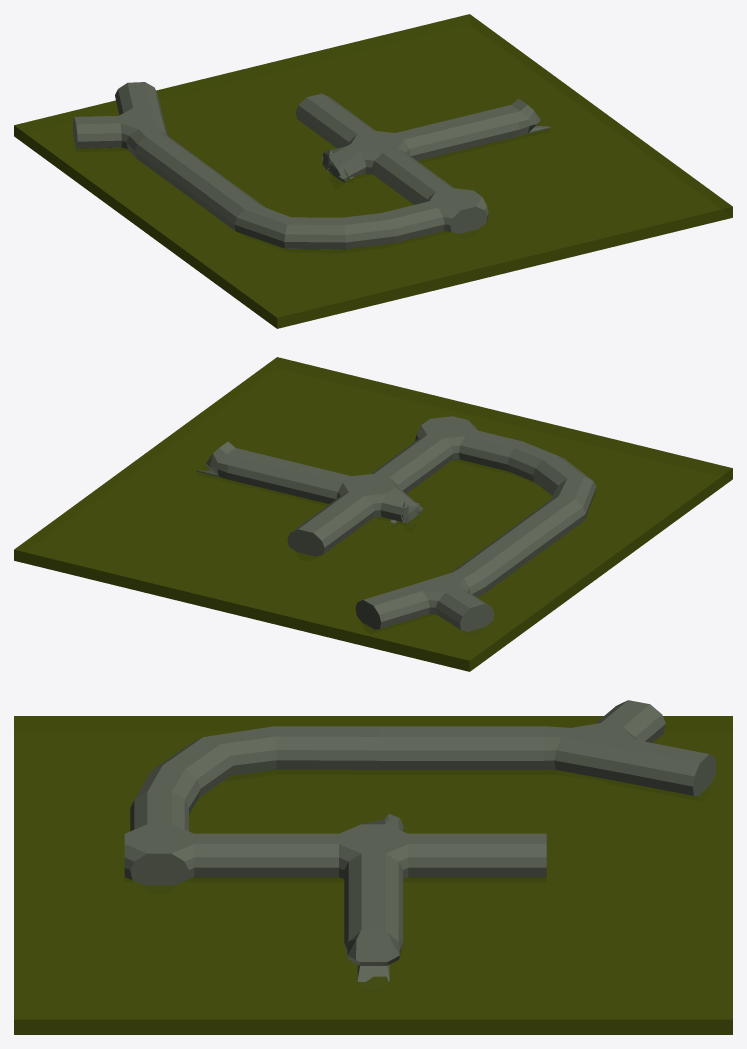
File: OverRat SewersMap.fbx
The picture shows the model from 3 angles, top to bottom: view 1: azimuth 30°, elevation 25°; view 2: azimuth 150°, elevation 25°; view 3: azimuth 270°, elevation 25°; orthographic projection. The views are drawn at different scales.
Visible parts, largest first — view 1: Cube.001, Cube; view 2: Cube.001, Cube; view 3: Cube.001, Cube.
Boxes of the visible parts, <box> form: Cube.001: <box>14,14,732,328</box>; Cube: <box>73,82,550,249</box>; Cube.001: <box>14,357,732,671</box>; Cube: <box>196,416,596,631</box>; Cube.001: <box>14,716,732,1034</box>; Cube: <box>124,700,716,981</box>.
Size of what is drawn, in the model's own units: 12979 by 1175 by 12979.
